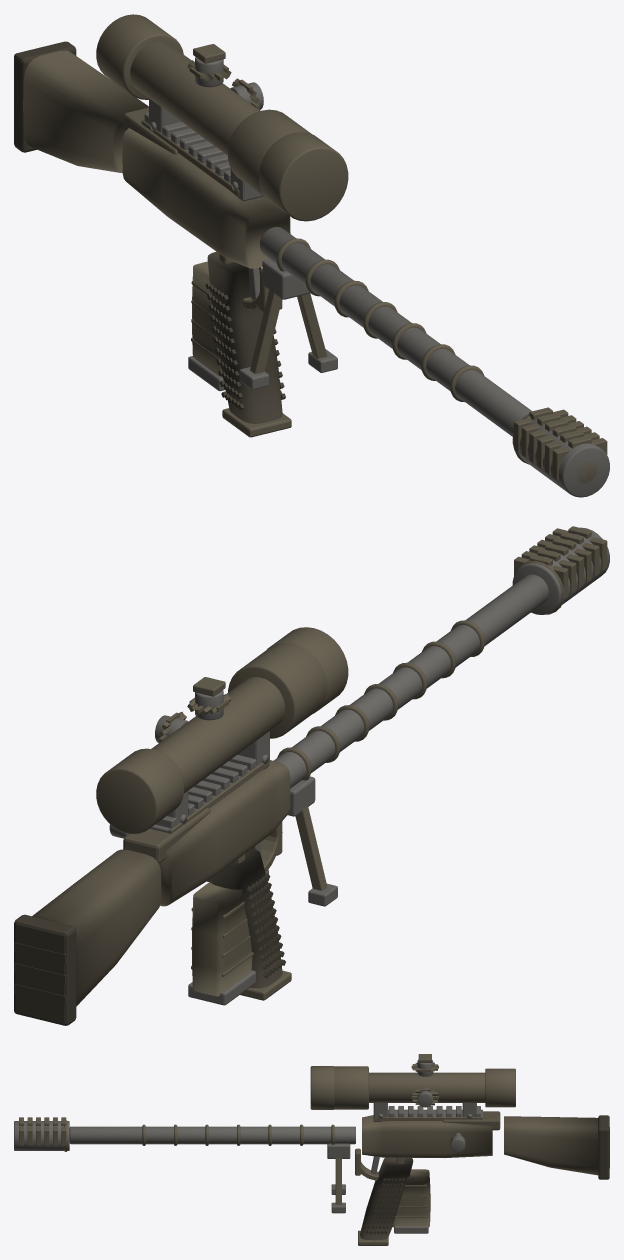
Rendered from weapon_sniper_rifle_03_v1.glb.
The picture shows the model from 3 angles, top to bottom: view 1: azimuth 30°, elevation 25°; view 2: azimuth 150°, elevation 25°; view 3: azimuth 270°, elevation 25°; orthographic projection. The views are drawn at different scales.
Parts seen in each view (by area): view 1: sniper_rifle_03; view 2: sniper_rifle_03; view 3: sniper_rifle_03.
Boxes of the visible parts, box(x1,y1,x2,y2) form: sniper_rifle_03: box(14, 14, 609, 497); sniper_rifle_03: box(14, 526, 609, 1025); sniper_rifle_03: box(14, 1054, 609, 1245).
Bounding box in the file's own units: 0.0698 × 0.2113 × 0.6202.
